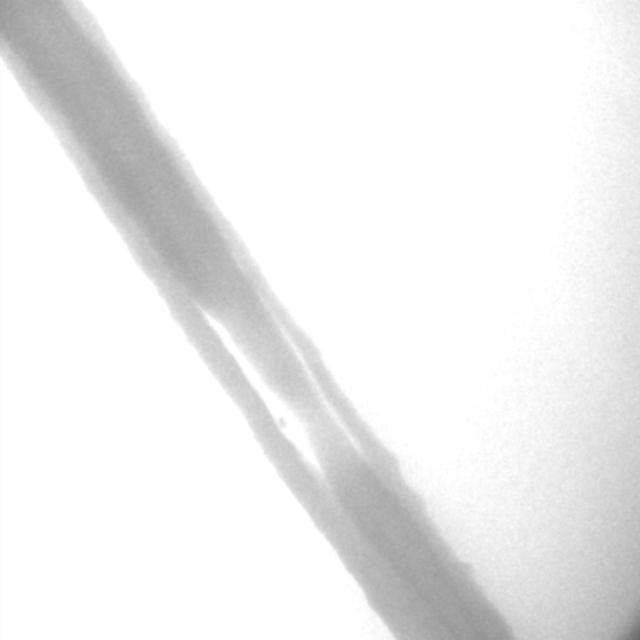unfused: (198, 299, 361, 475)
